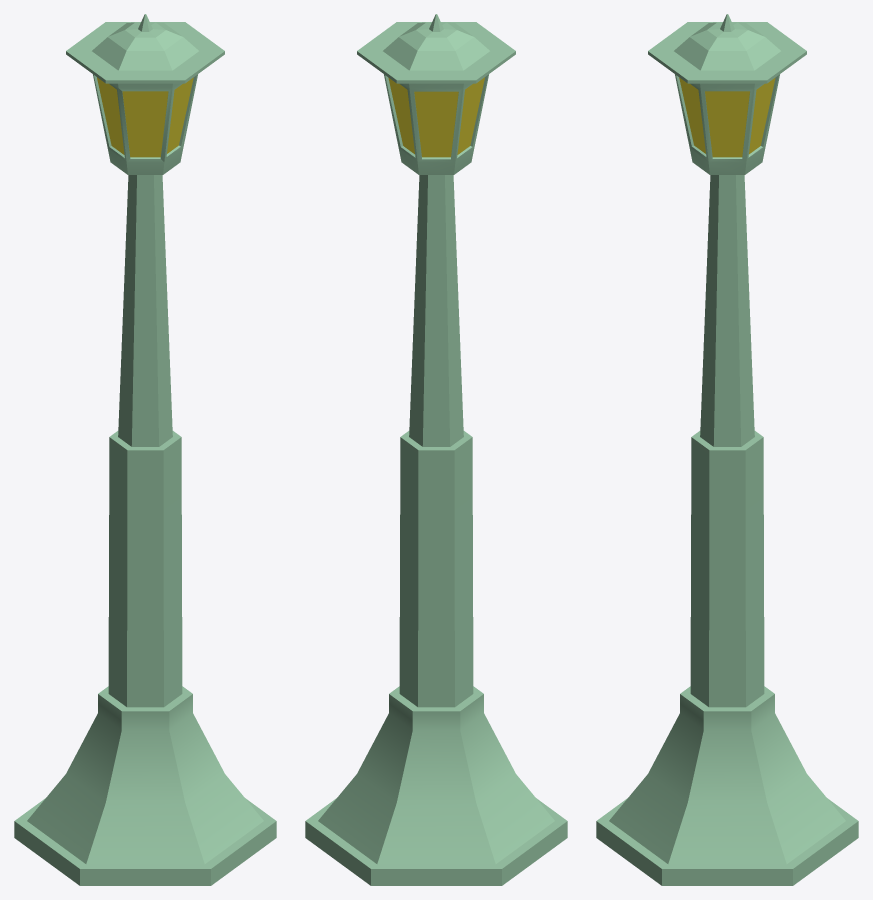
Rendered from bander2.fbx.
3 views of the same model, side by side, from view 1: azimuth 30°, elevation 25°; view 2: azimuth 150°, elevation 25°; view 3: azimuth 270°, elevation 25° (orthographic).
Parts seen in each view (by area): view 1: bandera; view 2: bandera; view 3: bandera.
Boxes of the visible parts, x1=… form: bandera: x1=14, y1=14, x2=276, y2=885; bandera: x1=305, y1=14, x2=567, y2=885; bandera: x1=596, y1=14, x2=858, y2=885.
Size of the model in its own units: 79.41 by 318 by 91.7.
